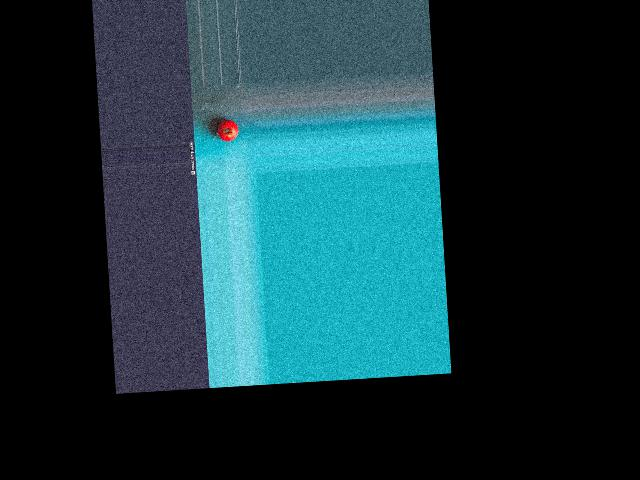tomato: (216, 119, 238, 141)
